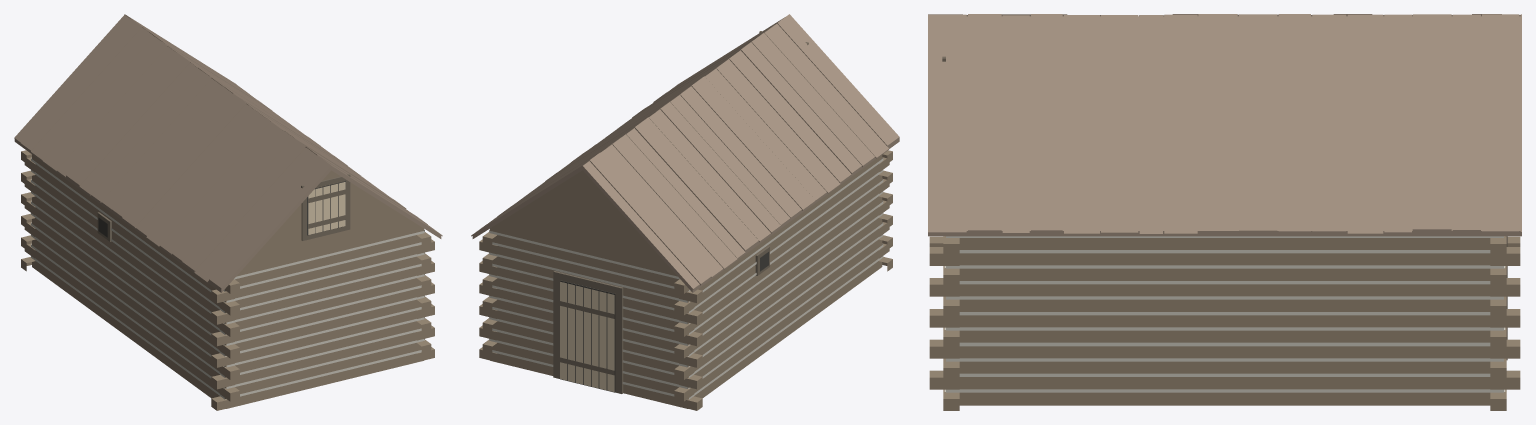
The model's file is recon_1835_blk_washington_franklin_a1_08__inferred_1835.glb.
3 renders of one model, left to right at view 1: azimuth 30°, elevation 25°; view 2: azimuth 150°, elevation 25°; view 3: azimuth 270°, elevation 25°, orthographic. The views are drawn at different scales.
Visible parts, largest first — view 1: recon_1835_blk_washington_franklin_a1_08__inferred_1835; view 2: recon_1835_blk_washington_franklin_a1_08__inferred_1835; view 3: recon_1835_blk_washington_franklin_a1_08__inferred_1835.
Part boxes in pixels (x1,y1,x2,y2): recon_1835_blk_washington_franklin_a1_08__inferred_1835: (14, 14, 442, 410); recon_1835_blk_washington_franklin_a1_08__inferred_1835: (471, 14, 899, 410); recon_1835_blk_washington_franklin_a1_08__inferred_1835: (928, 14, 1521, 410).
Bounding box in the file's own units: 5.46 × 5.22 × 8.72.
